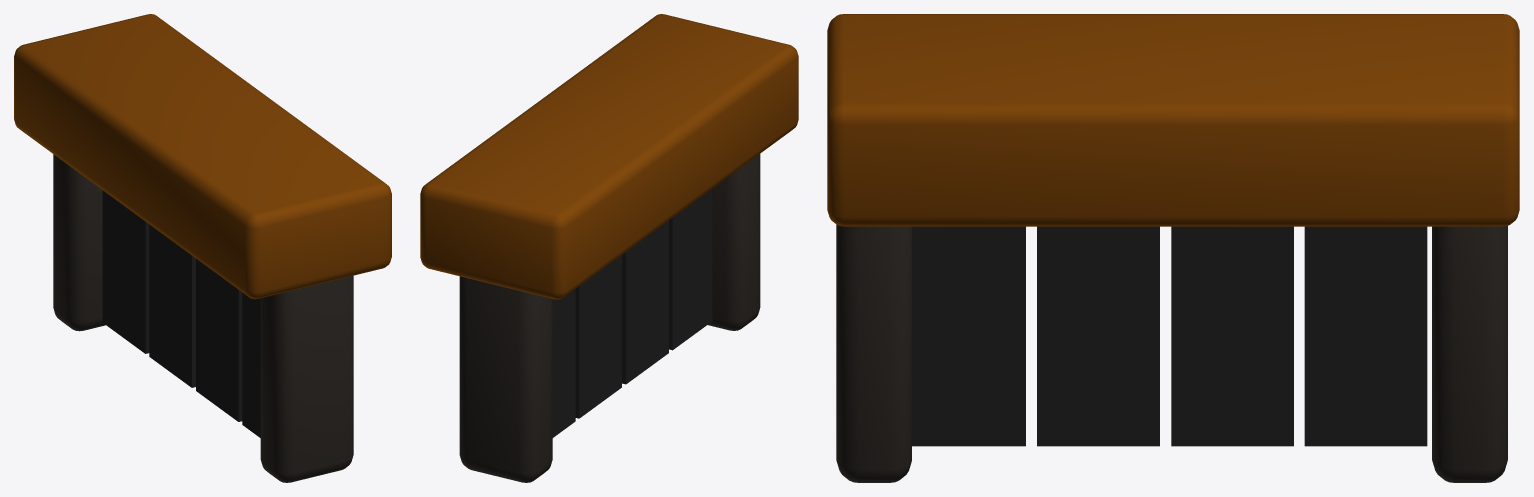
The model's file is Переход в стене ыыы.fbx.
3 views of the same model, side by side, from view 1: azimuth 30°, elevation 25°; view 2: azimuth 150°, elevation 25°; view 3: azimuth 270°, elevation 25° (orthographic). The views are drawn at different scales.
Visible parts, largest first — view 1: Cube_8, Cube_5, Cube, Cube_1, Cube_4, Cube_2, Cube_3; view 2: Cube_8, Cube, Cube_5, Cube_2, Cube_4, Cube_3, Cube_1; view 3: Cube_8, Cube_1, Cube_4, Cube_2, Cube_3, Cube_5, Cube.
Boxes of the visible parts, left/top/right/bottom form: Cube_8: left=14, top=14, right=391, bottom=299; Cube_5: left=260, top=275, right=353, bottom=482; Cube: left=53, top=154, right=105, bottom=331; Cube_1: left=102, top=190, right=149, bottom=353; Cube_4: left=149, top=224, right=195, bottom=387; Cube_2: left=196, top=258, right=242, bottom=421; Cube_3: left=242, top=292, right=260, bottom=437; Cube_8: left=420, top=14, right=798, bottom=299; Cube: left=459, top=276, right=552, bottom=482; Cube_5: left=708, top=154, right=760, bottom=330; Cube_2: left=622, top=220, right=668, bottom=384; Cube_4: left=575, top=255, right=621, bottom=418; Cube_3: left=669, top=189, right=712, bottom=350; Cube_1: left=552, top=289, right=575, bottom=437; Cube_8: left=827, top=14, right=1519, bottom=226; Cube_1: left=1304, top=226, right=1427, bottom=446; Cube_4: left=1171, top=226, right=1293, bottom=446; Cube_2: left=1037, top=226, right=1159, bottom=446; Cube_3: left=912, top=226, right=1025, bottom=446; Cube_5: left=836, top=224, right=911, bottom=482; Cube: left=1432, top=226, right=1507, bottom=482.
Size of the model in its own units: 31.83 by 58.86 by 91.47.
